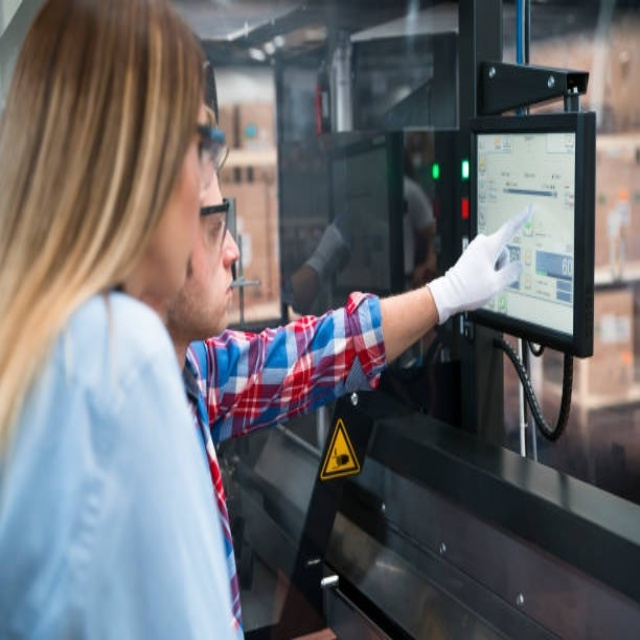Gafas: (198, 192, 237, 256), (194, 122, 229, 178)
Guantes: (427, 204, 531, 326), (301, 219, 351, 290)
Sin_mascara: (201, 259, 235, 333)
